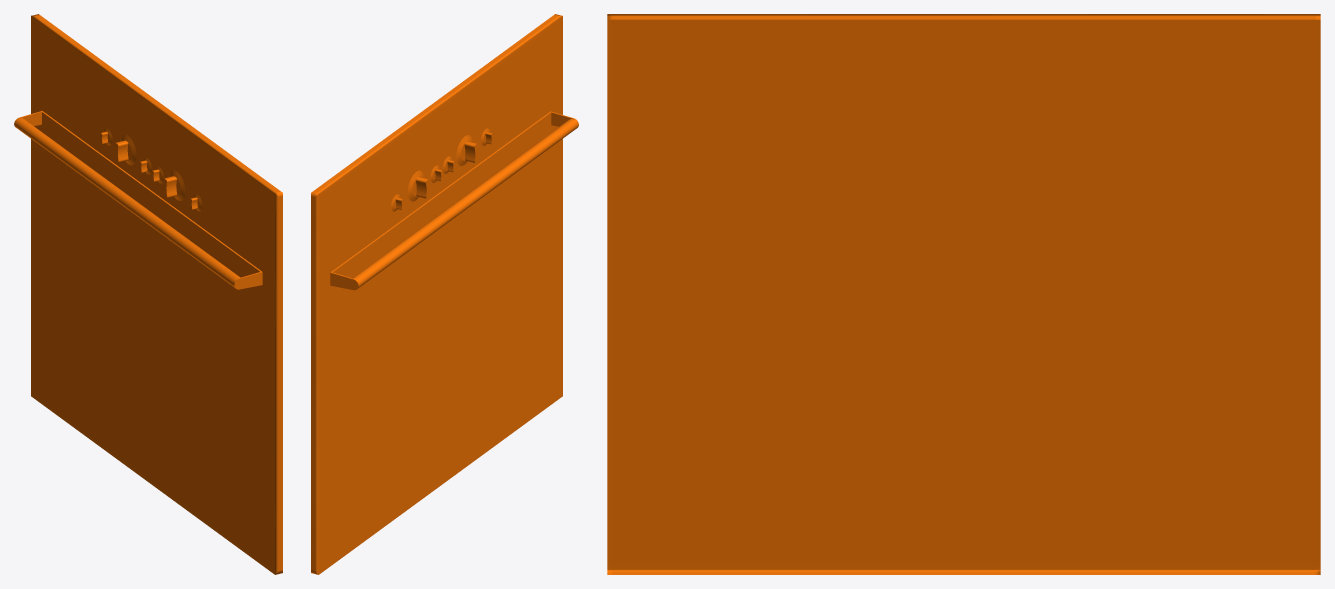
The model's file is _oprno.FBX.
3 views of the same model, side by side, from view 1: azimuth 30°, elevation 25°; view 2: azimuth 150°, elevation 25°; view 3: azimuth 270°, elevation 25° (orthographic). The views are drawn at different scales.
Visible parts, largest first — view 1: Horno213; view 2: Horno213; view 3: Horno213.
Boxes of the visible parts, x1=… form: Horno213: x1=14, y1=14, x2=282, y2=574; Horno213: x1=311, y1=14, x2=578, y2=574; Horno213: x1=607, y1=14, x2=1320, y2=574.
Size of the model in its own units: 5.09 by 51.29 by 59.69.
